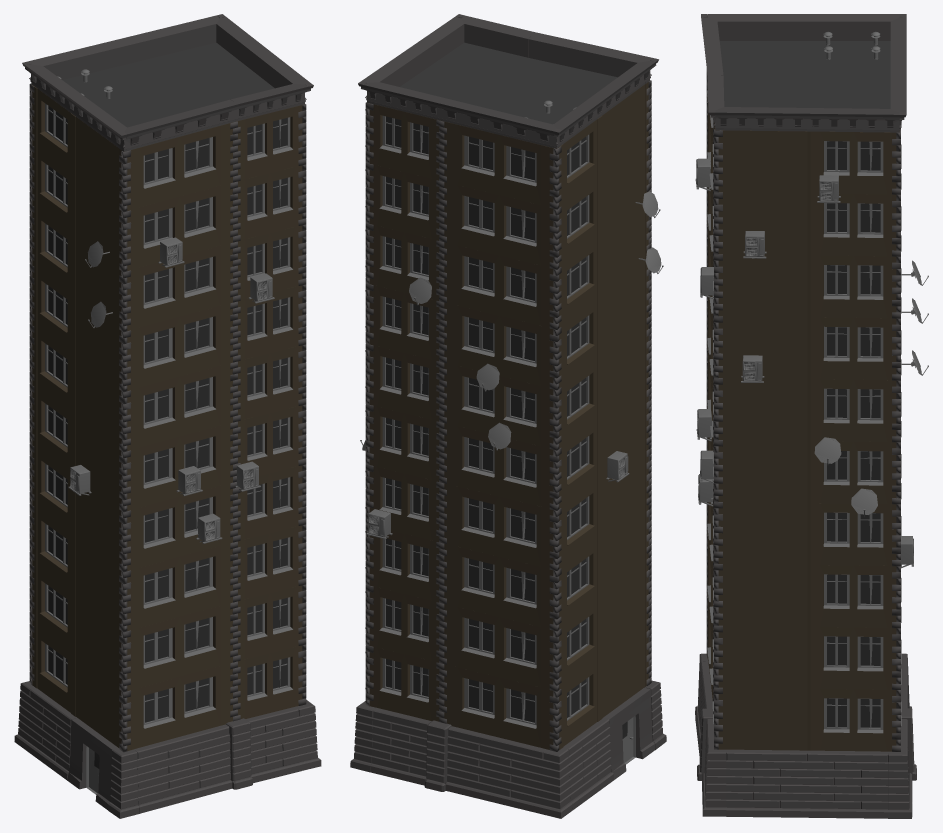
3 views of the same model, side by side, from view 1: azimuth 30°, elevation 25°; view 2: azimuth 150°, elevation 25°; view 3: azimuth 270°, elevation 25° (orthographic). The views are drawn at different scales.
Parts seen in each view (by area): view 1: Plane.012, middle_floor_wall_02.490, middle_floor_wall_02.487, middle_floor_wall_02.486, middle_floor_wall_02.482, middle_floor_wall_02.483, middle_floor_wall_02.481, ground_floor_wall_02.106, middle_floor_wall_02.488, middle_floor_wall_02.489, middle_floor_wall_02.485, middle_floor_wall_02.484 (+61 smaller); view 2: Plane.012, middle_floor_wall_02.480, middle_floor_wall_02.479, middle_floor_wall_02.472, middle_floor_wall_02.471, middle_floor_wall_02.474, middle_floor_wall_02.478, middle_floor_wall_02.473, ground_floor_wall_02.105, middle_floor_wall_02.477, middle_floor_wall_02.475, middle_floor_wall_02.476 (+57 smaller); view 3: Plane.012, ground_floor_wall_02.101, ground_floor_wall_02.102, middle_floor_wall_01.237, middle_floor_wall_02.447, middle_floor_wall_02.448, middle_floor_wall_01.230, middle_floor_wall_01.231, middle_floor_wall_02.443, middle_floor_wall_01.228, middle_floor_wall_01.229, middle_floor_wall_01.232 (+51 smaller).
Part boxes in pixels (x1,y1,x2,y2): Plane.012: (62, 42, 274, 127); middle_floor_wall_02.490: (119, 122, 233, 210); middle_floor_wall_02.487: (119, 303, 232, 390); middle_floor_wall_02.486: (119, 363, 232, 450); middle_floor_wall_02.482: (119, 603, 232, 690); middle_floor_wall_02.483: (119, 543, 232, 630); middle_floor_wall_02.481: (119, 663, 232, 750); ground_floor_wall_02.106: (134, 724, 232, 813); middle_floor_wall_02.488: (119, 243, 232, 330); middle_floor_wall_02.489: (119, 183, 232, 270); middle_floor_wall_02.485: (119, 423, 232, 510); middle_floor_wall_02.484: (119, 483, 232, 570); Plane.012: (400, 42, 617, 124); middle_floor_wall_02.480: (442, 121, 553, 207); middle_floor_wall_02.479: (444, 182, 553, 267); middle_floor_wall_02.472: (444, 604, 553, 689); middle_floor_wall_02.471: (444, 664, 553, 749); middle_floor_wall_02.474: (444, 483, 553, 568); middle_floor_wall_02.478: (444, 242, 553, 327); middle_floor_wall_02.473: (444, 544, 553, 629); ground_floor_wall_02.105: (445, 726, 546, 813); middle_floor_wall_02.477: (444, 302, 553, 388); middle_floor_wall_02.475: (444, 423, 553, 508); middle_floor_wall_02.476: (444, 363, 553, 448); Plane.012: (719, 41, 890, 108); ground_floor_wall_02.101: (726, 749, 807, 817); ground_floor_wall_02.102: (807, 750, 888, 818); middle_floor_wall_01.237: (715, 130, 807, 193); middle_floor_wall_02.447: (807, 317, 896, 380); middle_floor_wall_02.448: (807, 255, 896, 318); middle_floor_wall_01.230: (718, 563, 807, 626); middle_floor_wall_01.231: (718, 502, 807, 564); middle_floor_wall_02.443: (807, 565, 896, 627); middle_floor_wall_01.228: (718, 687, 807, 750); middle_floor_wall_01.229: (718, 625, 807, 688); middle_floor_wall_01.232: (718, 440, 807, 502).
Bounding box in the file's own units: 1252 × 3432 × 1037.
